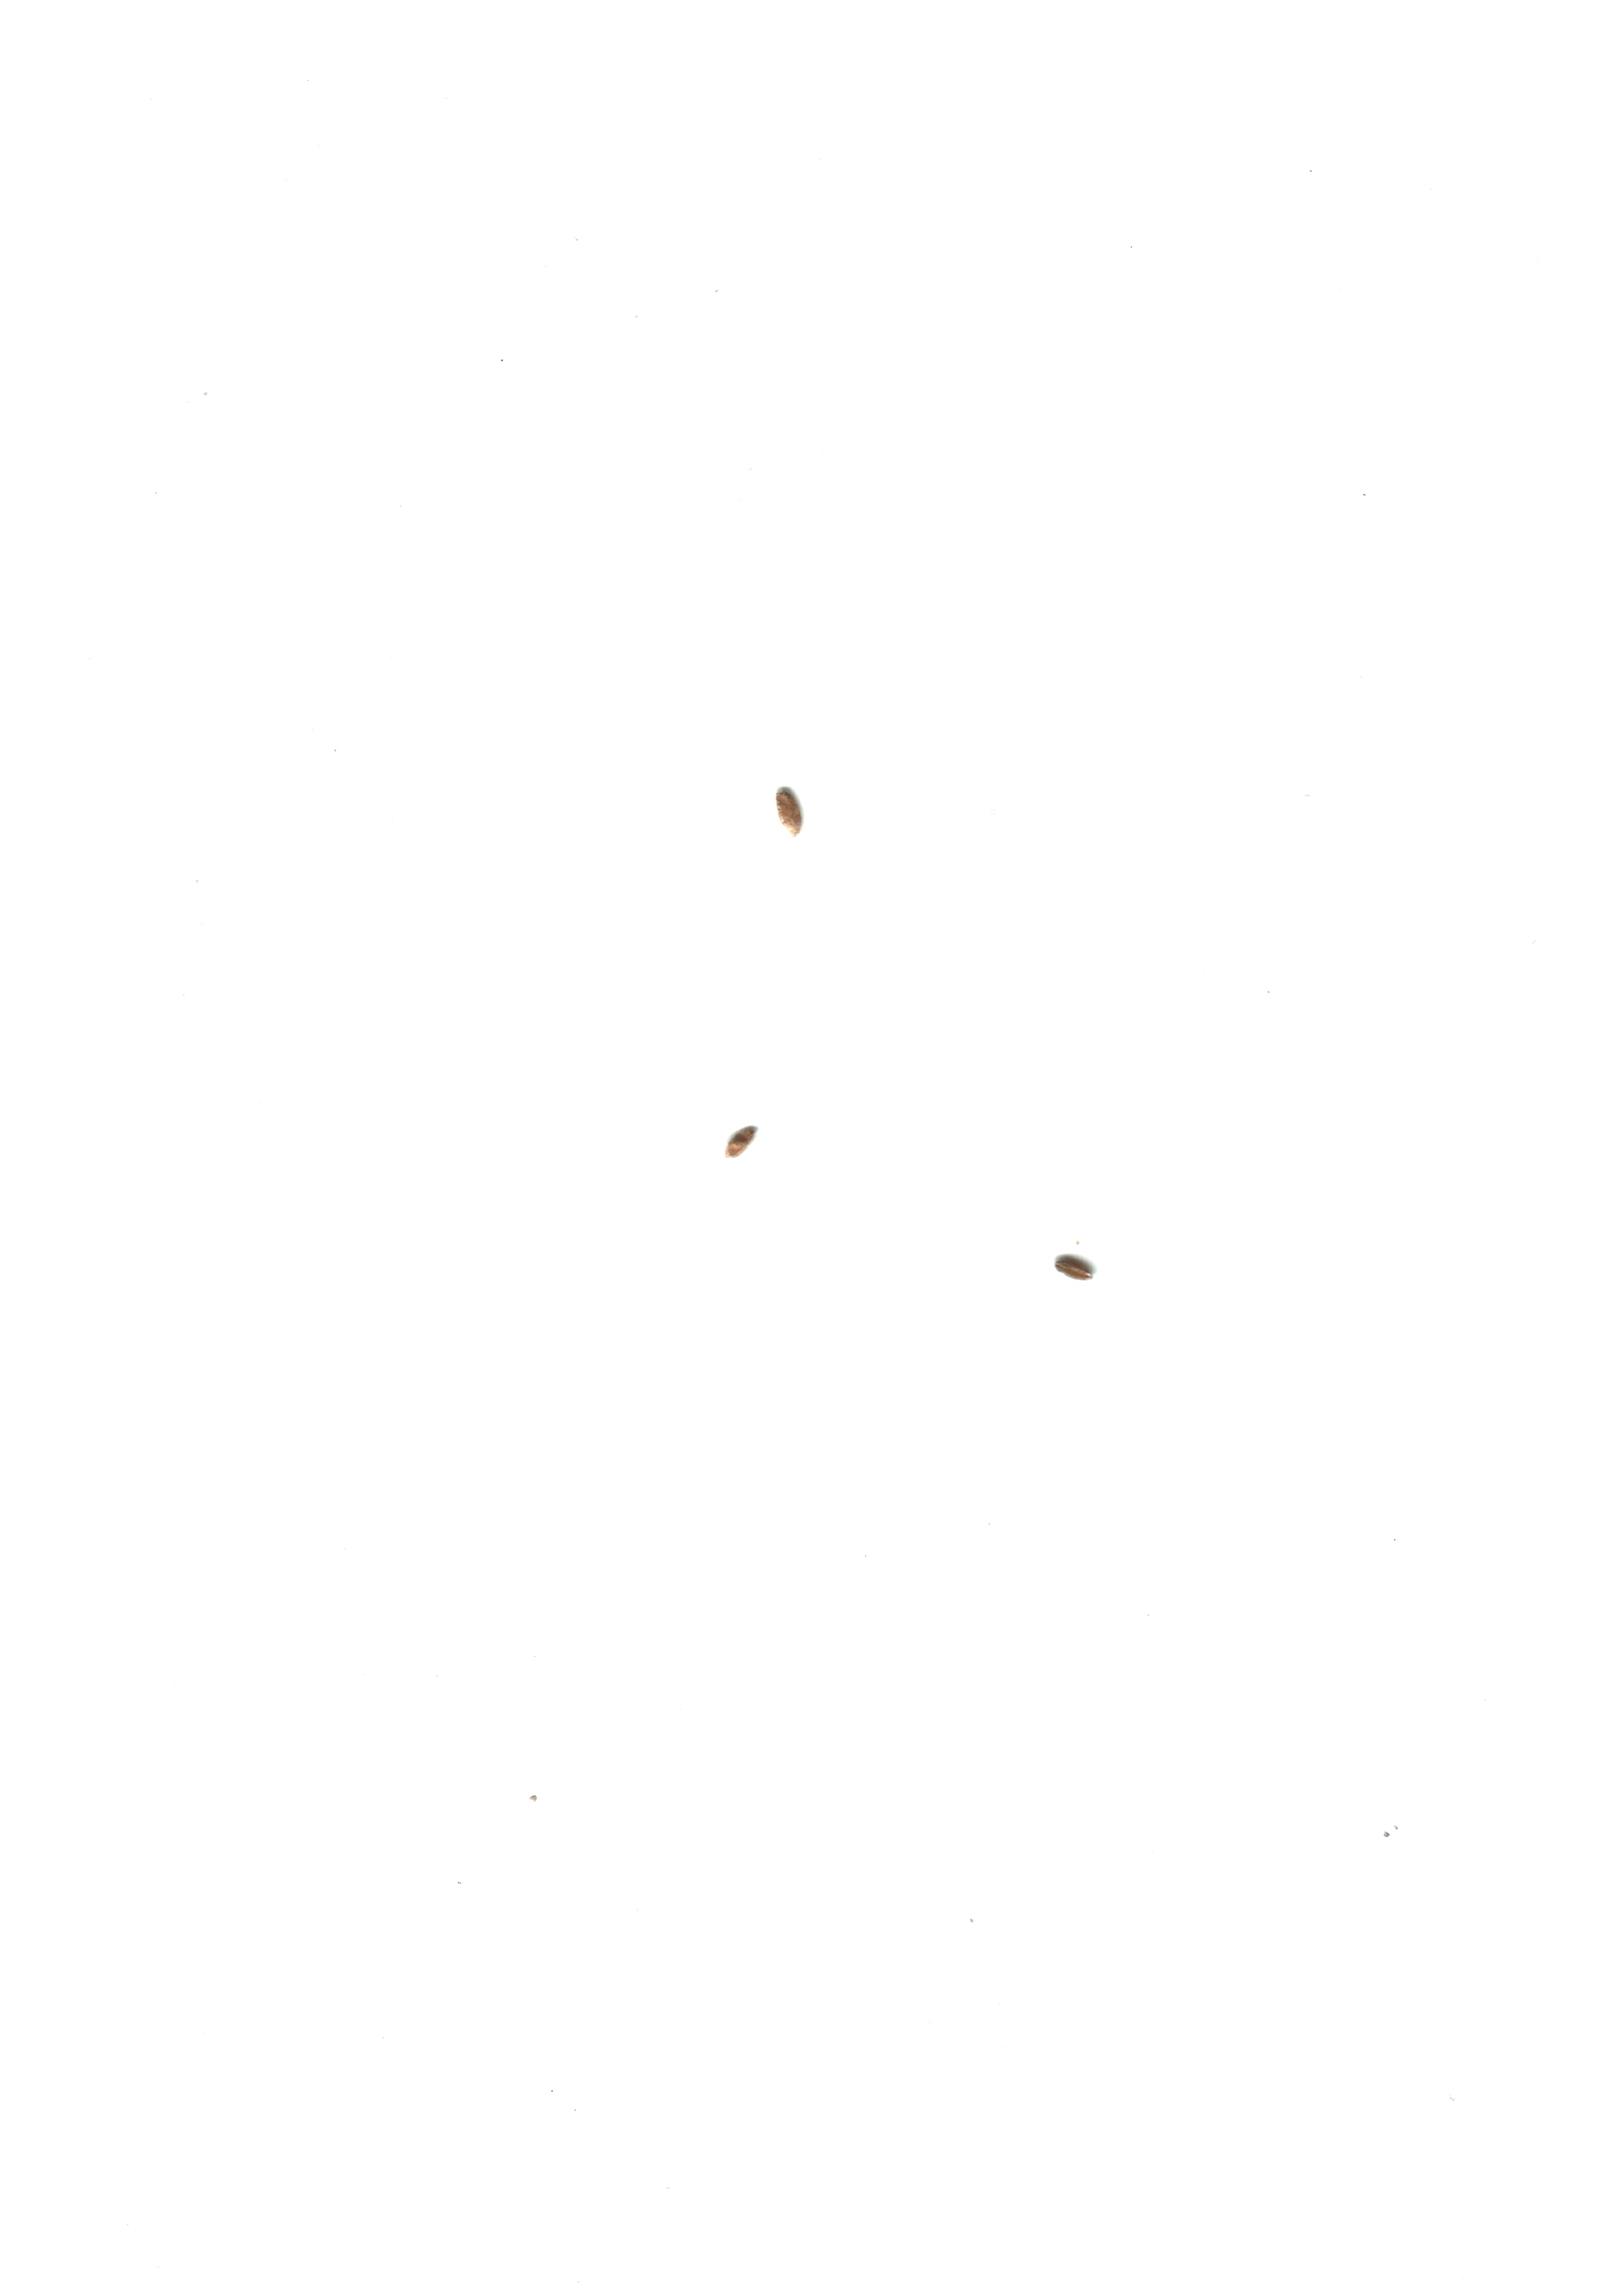grains_2mm: (1034, 1227, 1116, 1306), (748, 771, 829, 850), (704, 1104, 785, 1181)
